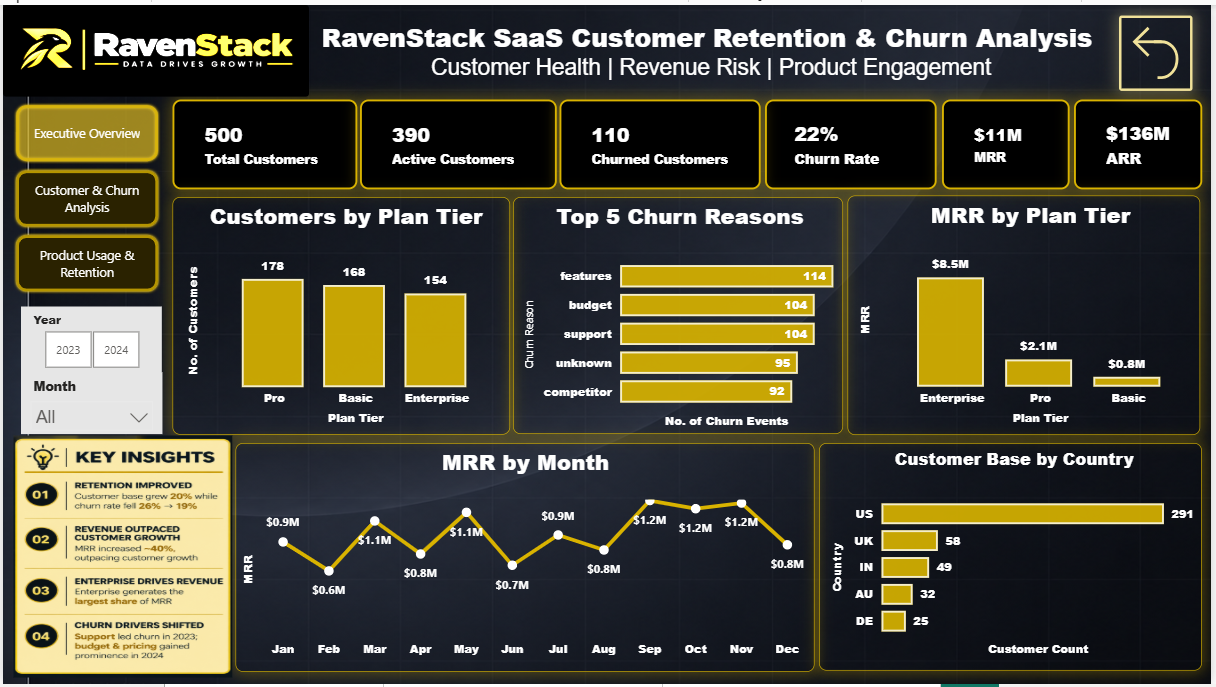

This screenshot's page, from the dashboard's own definition file:
{"tool":"powerbi","page":{"name":"Executive Overview","canvas":[1280,720],"ordinal":0},"visuals":[{"type":"textbox","box":[324.5,11.1,851,81.1],"z":0},{"type":"cardVisual","fields":{"Data":["ravenstack_accounts.Total Customers"]},"box":[180,101,196,95],"z":1000},{"type":"cardVisual","fields":{"Data":["ravenstack_accounts.Active Customers"]},"box":[378.6,100.2,208.4,95.4],"z":2000},{"type":"cardVisual","fields":{"Data":["ravenstack_accounts.Churn Rate %"]},"box":[808,100.2,182,95],"z":3000},{"type":"cardVisual","fields":{"Data":["ravenstack_accounts.Churned Customers"]},"box":[590,101,213,95],"z":4000},{"type":"cardVisual","fields":{"Data":["ravenstack_accounts.MRR"]},"box":[995.7,100.2,135.2,95.4],"z":5000},{"type":"cardVisual","fields":{"Data":["ravenstack_accounts.ARR"]},"box":[1135,100,136,95.4],"z":6000},{"type":"columnChart","title":"Customers by Plan Tier","fields":{"Category":["ravenstack_accounts.Plan Tier"],"Y":["CountNonNull(ravenstack_accounts.Account ID)"]},"box":[180,204,358,252],"z":7000},{"type":"lineChart","fields":{"Y":["ravenstack_accounts.MRR"],"Category":["Date_Table.Month"]},"box":[247,464.3,614,242.9],"z":8000},{"type":"columnChart","fields":{"Y":["ravenstack_accounts.MRR"],"Category":["ravenstack_subscriptions.Plan Tier"]},"box":[896,202,374,254],"z":9000},{"type":"clusteredBarChart","title":"Top 5 Churn Reasons","fields":{"Category":["ravenstack_churn_events.Reason Code"],"Y":["CountNonNull(ravenstack_churn_events.Churn Event ID)"]},"box":[541.4,204.3,350,251.4],"z":10000},{"type":"barChart","title":"Customer Base by Country","fields":{"Category":["ravenstack_accounts.Country"],"Y":["CountNonNull(ravenstack_accounts.Account ID)"]},"box":[865.7,464.3,405.7,241.4],"z":11000},{"type":"slicer","fields":{"Values":["Date_Table.Month"]},"box":[18.3,390,150,65],"z":12000},{"type":"slicer","fields":{"Values":["Date_Table.Year"]},"box":[19.1,319,149.5,71.6],"z":13000},{"type":"actionButton","box":[1184,11,78,80],"z":17000},{"type":"image","box":[0,0,324.5,97],"z":18000},{"type":"image","box":[11.7,456.7,231.7,256.7],"z":19000},{"type":"pageNavigator","box":[11.7,103.3,156.7,203.3],"z":20001}]}

Visuals, with their boxes in screenshot pixels (x1, y1, x2, y2), scaled from the page's 1280x720 canvas onto the 1216x687 screenshot:
textbox: {"x1": 308, "y1": 11, "x2": 1117, "y2": 88}
cardVisual - ravenstack_accounts.Total Customers: {"x1": 171, "y1": 96, "x2": 357, "y2": 187}
cardVisual - ravenstack_accounts.Active Customers: {"x1": 360, "y1": 96, "x2": 558, "y2": 187}
cardVisual - ravenstack_accounts.Churn Rate %: {"x1": 768, "y1": 96, "x2": 940, "y2": 186}
cardVisual - ravenstack_accounts.Churned Customers: {"x1": 560, "y1": 96, "x2": 763, "y2": 187}
cardVisual - ravenstack_accounts.MRR: {"x1": 946, "y1": 96, "x2": 1074, "y2": 187}
cardVisual - ravenstack_accounts.ARR: {"x1": 1078, "y1": 95, "x2": 1207, "y2": 186}
"Customers by Plan Tier" columnChart: {"x1": 171, "y1": 195, "x2": 511, "y2": 435}
lineChart - ravenstack_accounts.MRR x Date_Table.Month: {"x1": 235, "y1": 443, "x2": 818, "y2": 675}
columnChart - ravenstack_accounts.MRR x ravenstack_subscriptions.Plan Tier: {"x1": 851, "y1": 193, "x2": 1206, "y2": 435}
"Top 5 Churn Reasons" clusteredBarChart: {"x1": 514, "y1": 195, "x2": 847, "y2": 435}
"Customer Base by Country" barChart: {"x1": 822, "y1": 443, "x2": 1208, "y2": 673}
slicer - Date_Table.Month: {"x1": 17, "y1": 372, "x2": 160, "y2": 434}
slicer - Date_Table.Year: {"x1": 18, "y1": 304, "x2": 160, "y2": 373}
actionButton: {"x1": 1125, "y1": 10, "x2": 1199, "y2": 87}
image: {"x1": 0, "y1": 0, "x2": 308, "y2": 93}
image: {"x1": 11, "y1": 436, "x2": 231, "y2": 681}
pageNavigator: {"x1": 11, "y1": 99, "x2": 160, "y2": 293}
